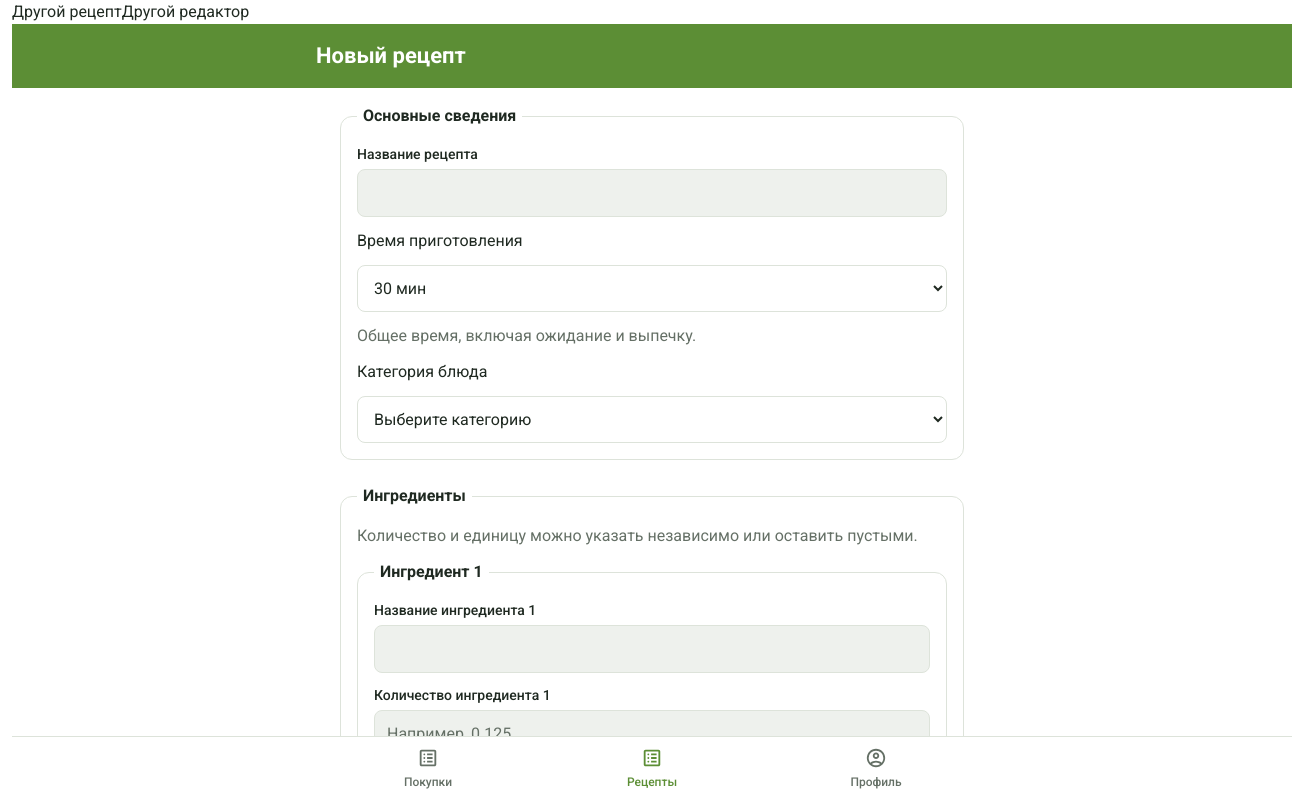
Scenario: Демонстрационный клиент рецептов › блокирует двойную отправку и повторяет неизменное тело с прежним ключом после потери ответа
Type "Новый пирог" into the field labelled "Название рецепта". click: (652, 193)
box: [357,169,947,217]
Select "Выпечка" in the dropdown labelled "Категория блюда". click: (652, 420)
box: [357,396,947,443]
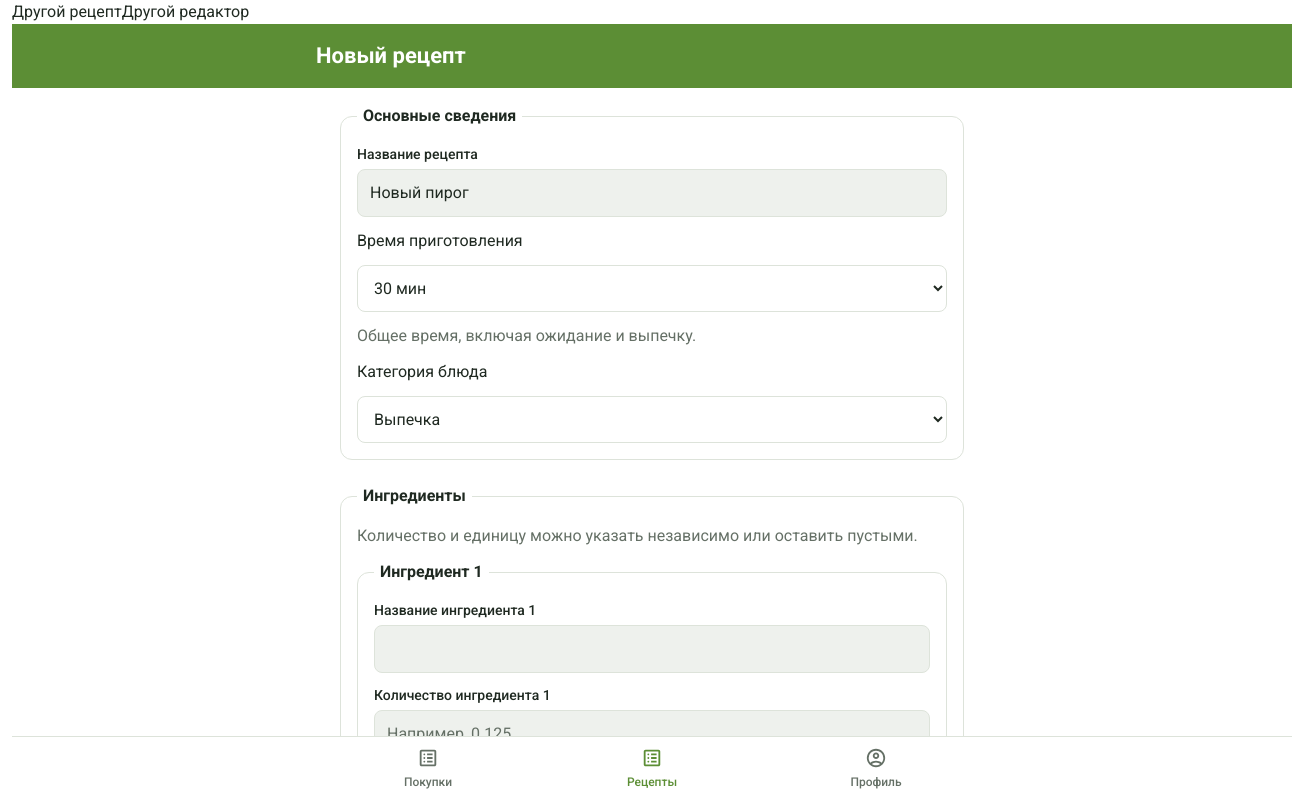
Type "Яйца" into the field labelled "Название ингредиента 1". click: (652, 649)
box: [374,625,930,673]
Type "2.500" into the field labelled "Количество ингредиента 1". click: (652, 734)
box: [374,710,930,758]
(page scrolled)
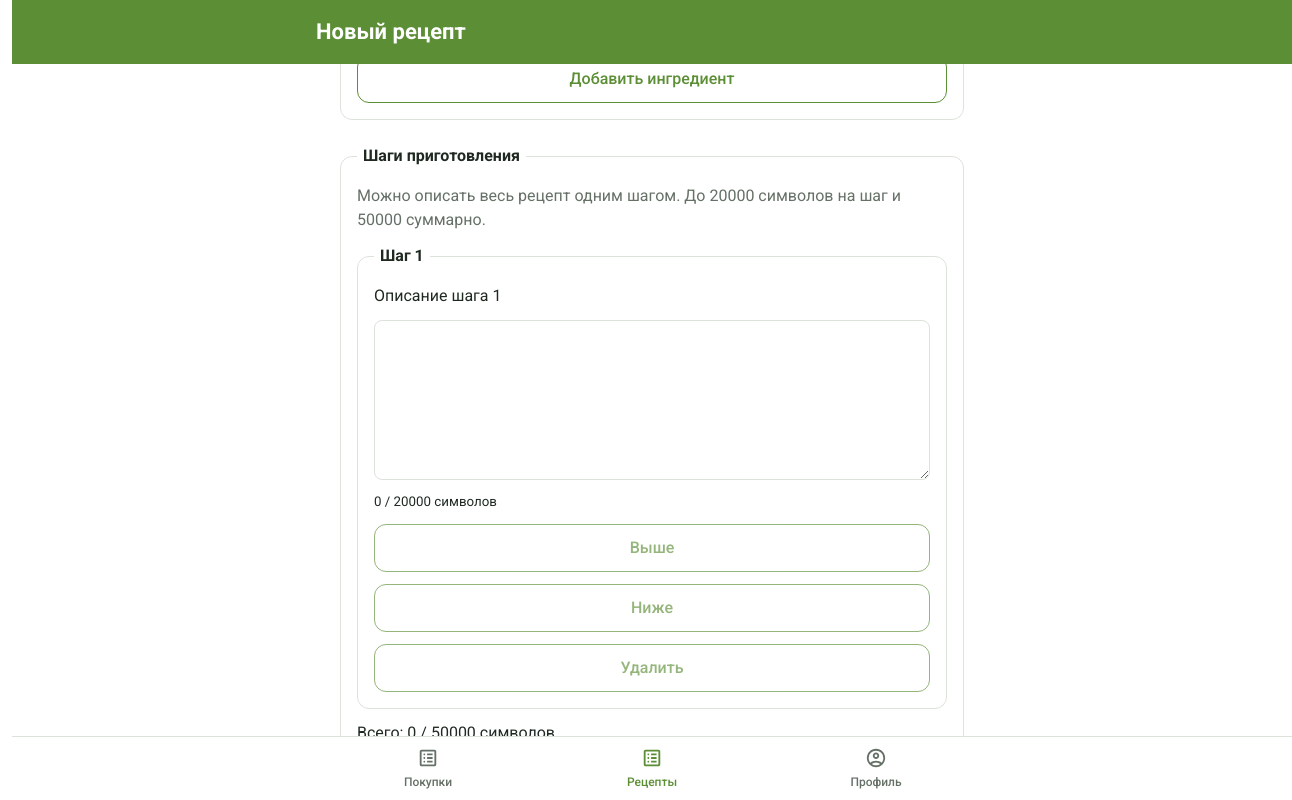
Type "Первый шаг" into the text box labelled "Описание шага 1". click: (652, 400)
box: [374,320,930,480]
(page scrolled)
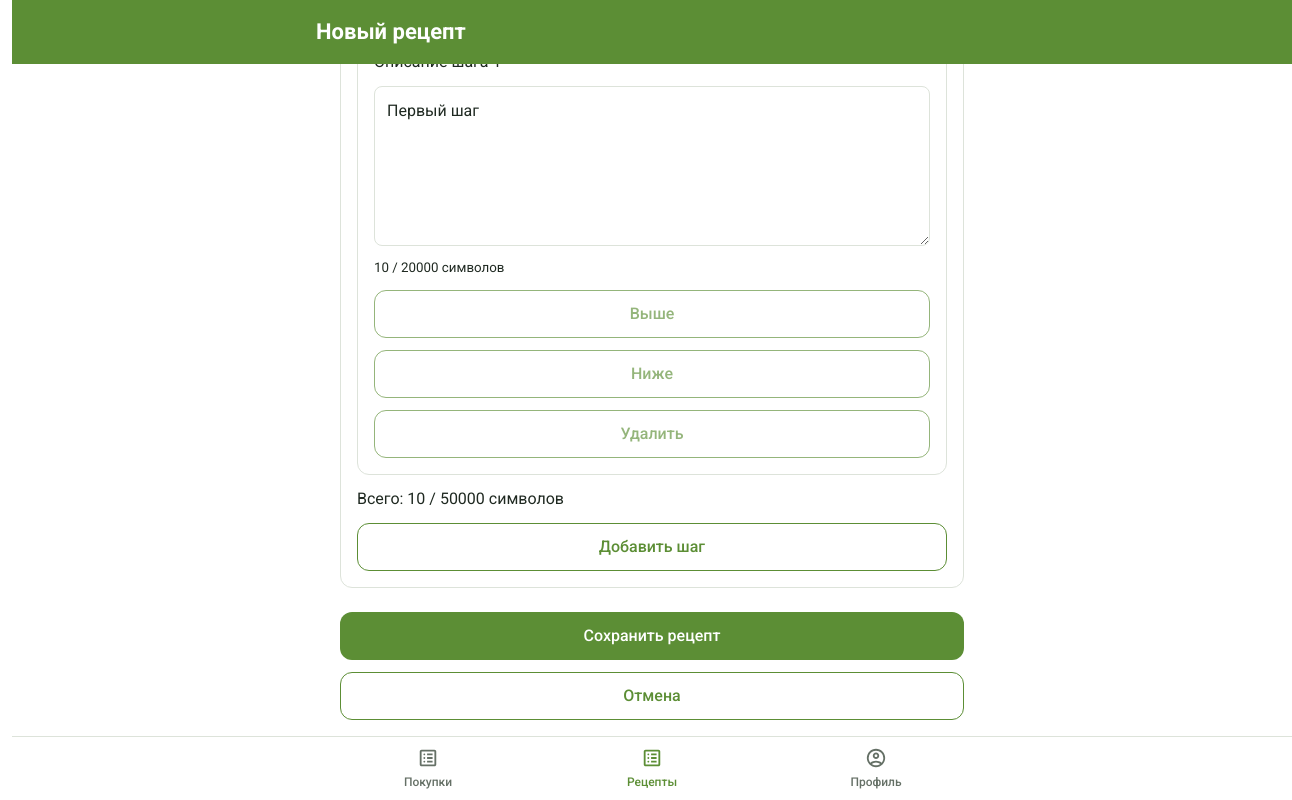
Double-click the button "Сохранить рецепт" at (652, 636), box [340,612,964,660]
(page scrolled)
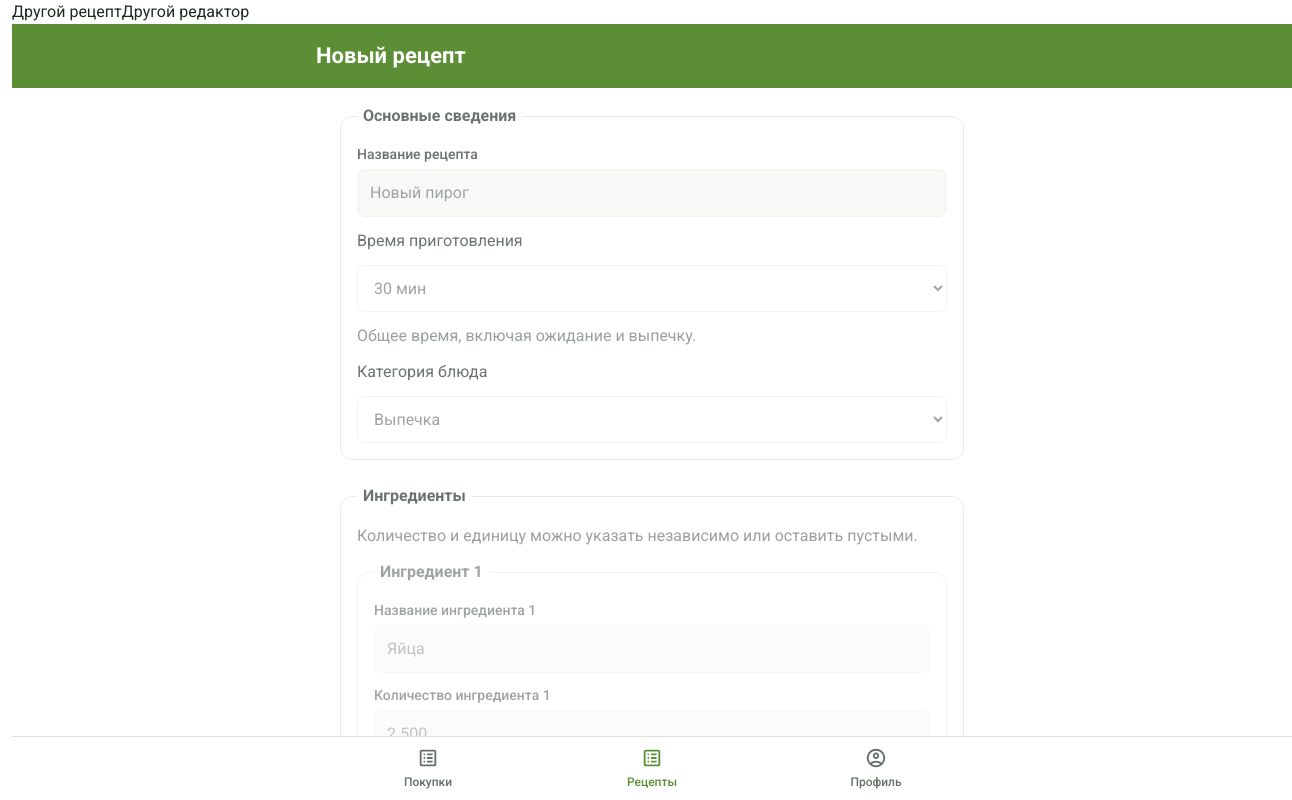
Replace the text in the field labelled "Название рецепта" with "Скрытая правка". click: (652, 193)
box: [357,169,947,217]
(page scrolled)
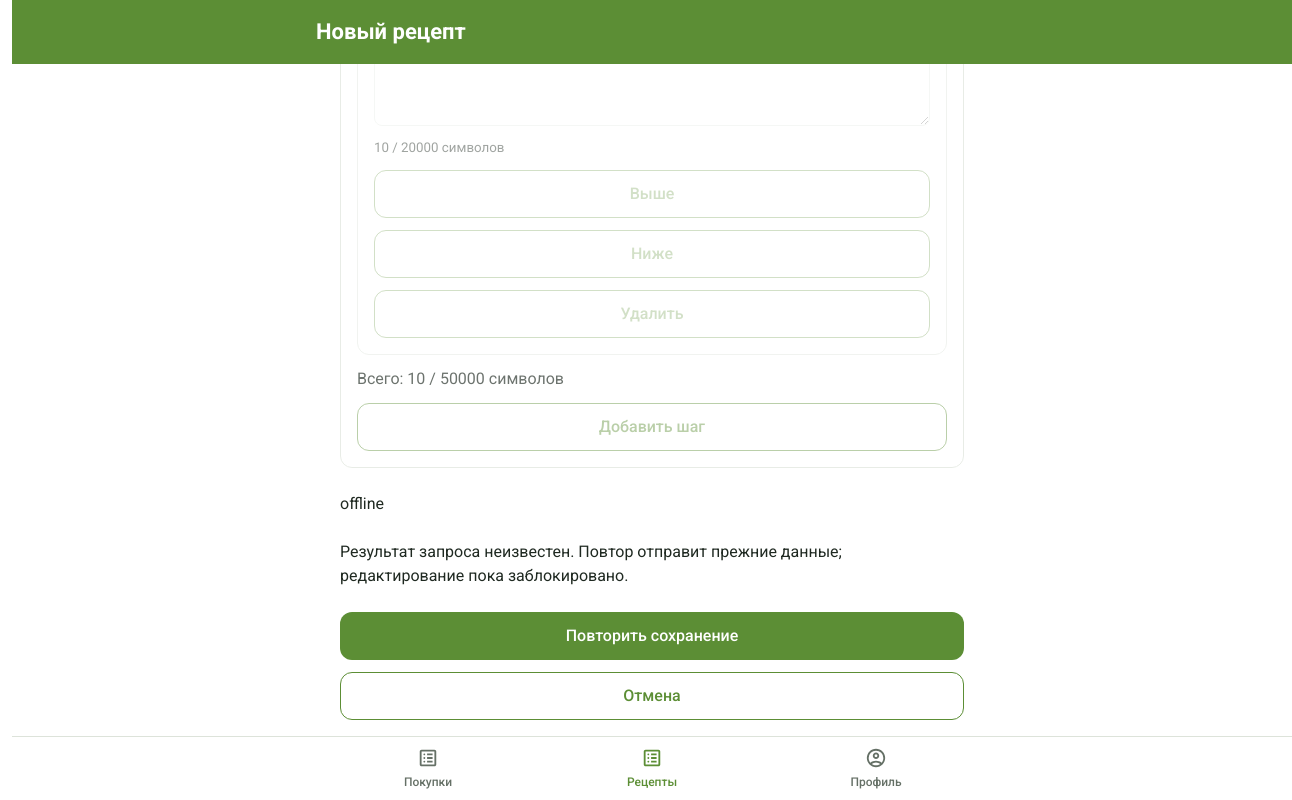
Click the button "Повторить сохранение". click: (652, 636)
box: [340,612,964,660]
(page scrolled)
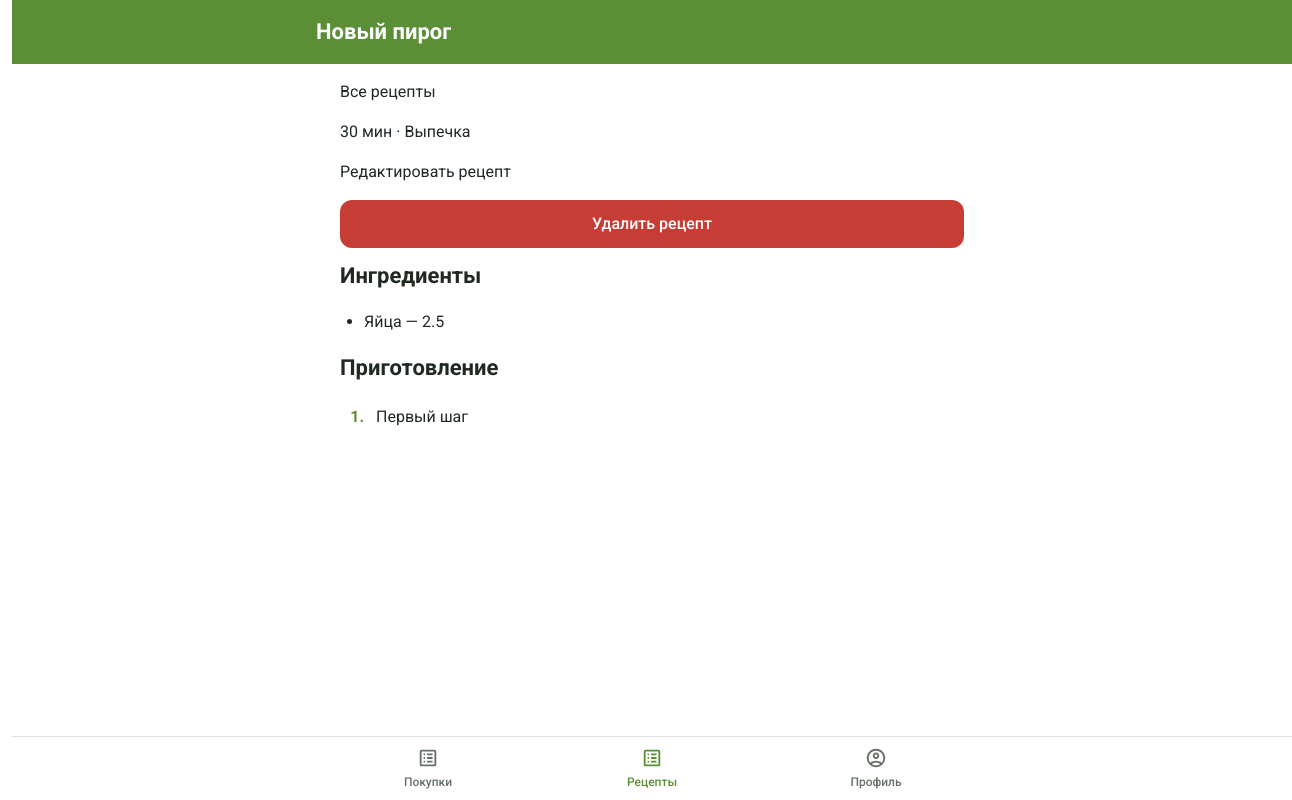
Check: the heading "Новый пирог" is shown, box [316,18,452,46]
